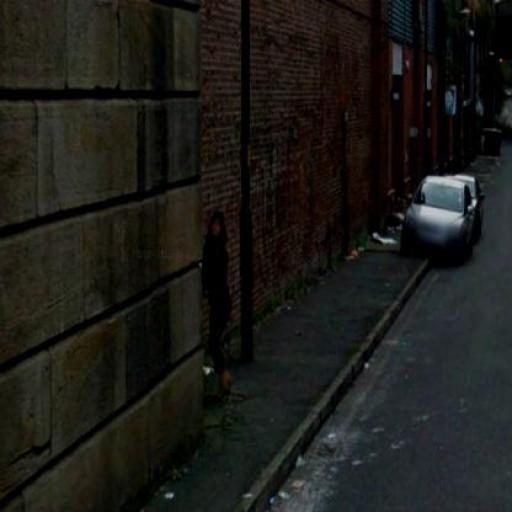street light: (421, 0, 471, 190)
